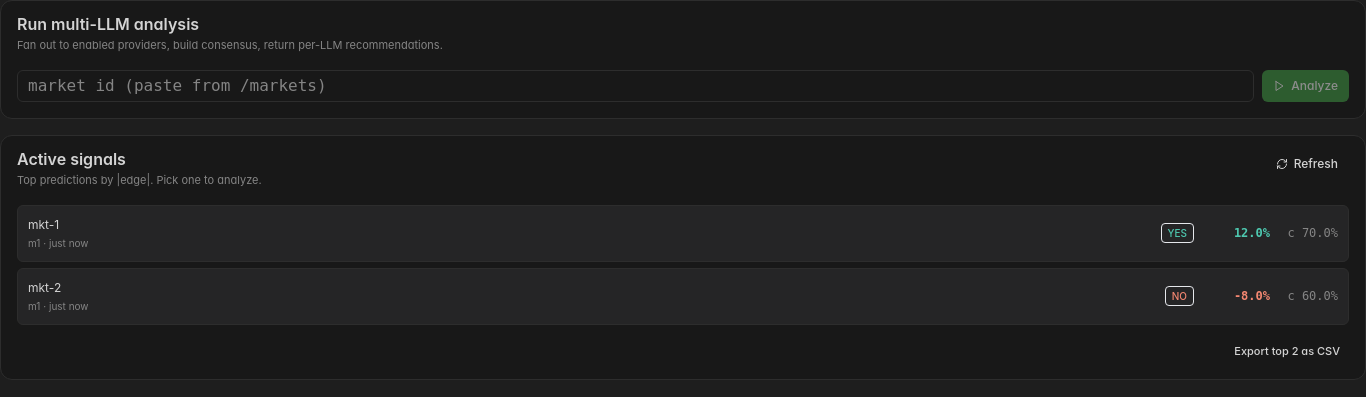
Test: Analysis (branches — v0.73b) › signals row click → setMarketId + clear analyzeResult
This screenshot has width=1366, height=397.
Click the button "mkt-1 m1 · just now YES 12.0% c 70.0%".
click(44, 224)  # box [17, 205, 1349, 262]
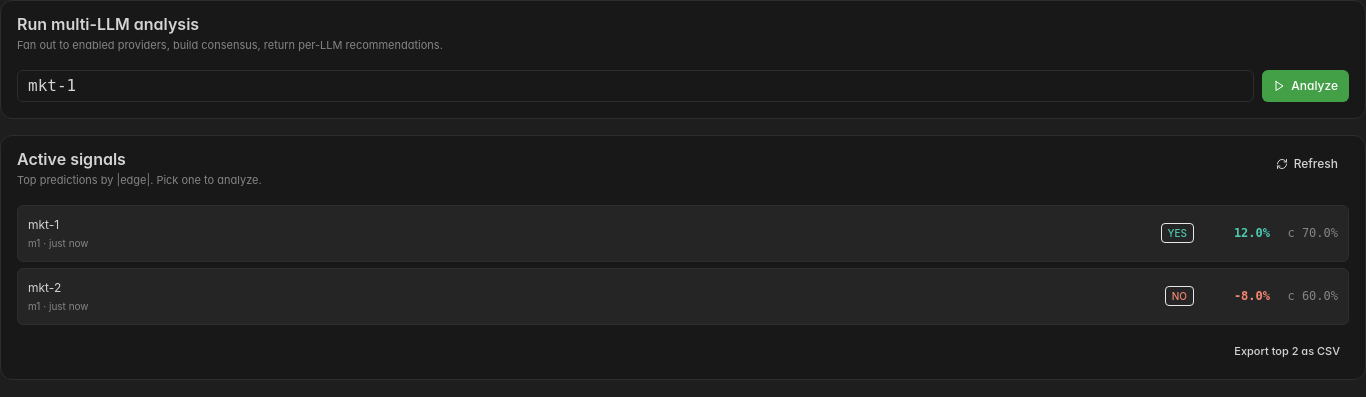
Now the field with placeholder "market id (paste from /markets)" holds "mkt-1", box [17, 70, 1254, 102]
